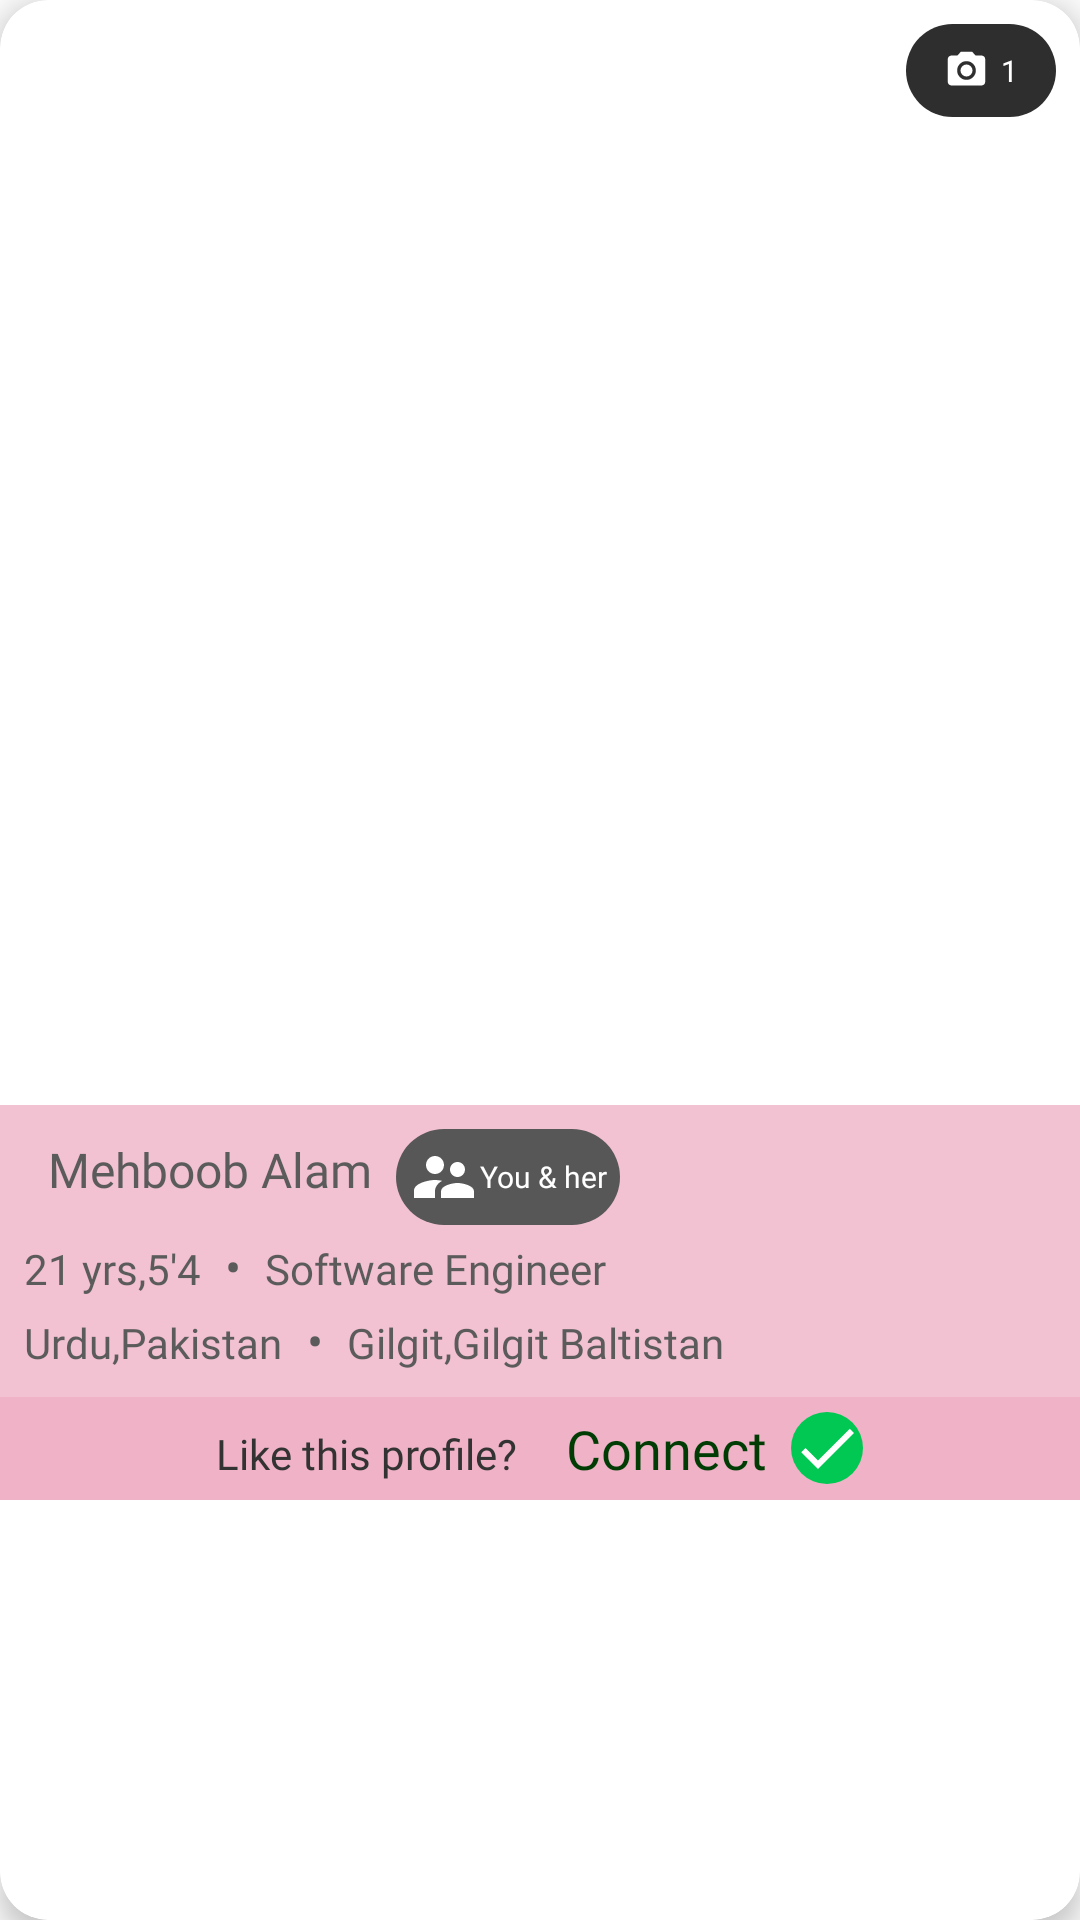

Screen size 1080×1920. Icon name, then its box in pixels as (x1, y1, x2, y2):
check: (791, 1412, 863, 1484)
photo camera: (947, 51, 986, 86)
